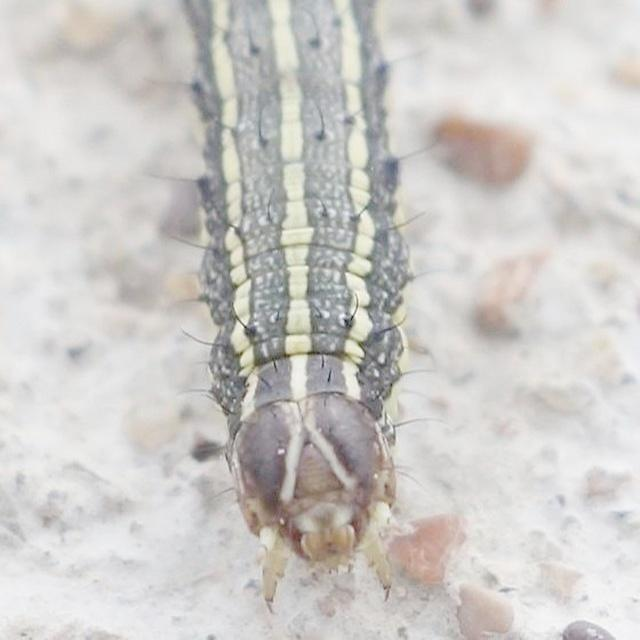gusano_cogollero: (200, 0, 390, 555)
